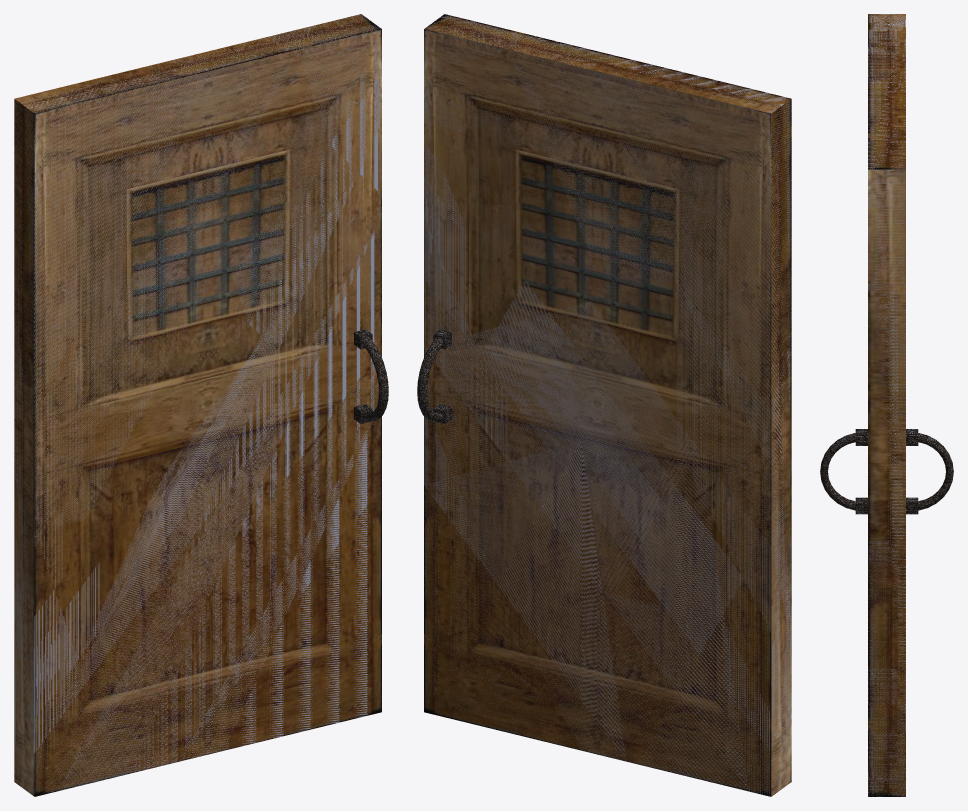
Rendered from DOOR005.fbx.
3 views of the same model, side by side, from view 1: azimuth 30°, elevation 25°; view 2: azimuth 150°, elevation 25°; view 3: azimuth 270°, elevation 25° (orthographic). The views are drawn at different scales.
Parts seen in each view (by area): view 1: Group3, Group2, Group5; view 2: Group3, Group2, Group4; view 3: Group2, Group4, Group5.
Part boxes in pixels (x1,y1,x2,y2): Group3: (34,29,381,796); Group2: (14,14,381,796); Group5: (354,329,388,423); Group3: (424,29,771,796); Group2: (424,14,791,796); Group4: (417,329,451,423); Group2: (868,14,905,796); Group4: (906,429,953,514); Group5: (820,429,867,514).
Bounding box in the file's own units: 58.5 × 110 × 21.25.
